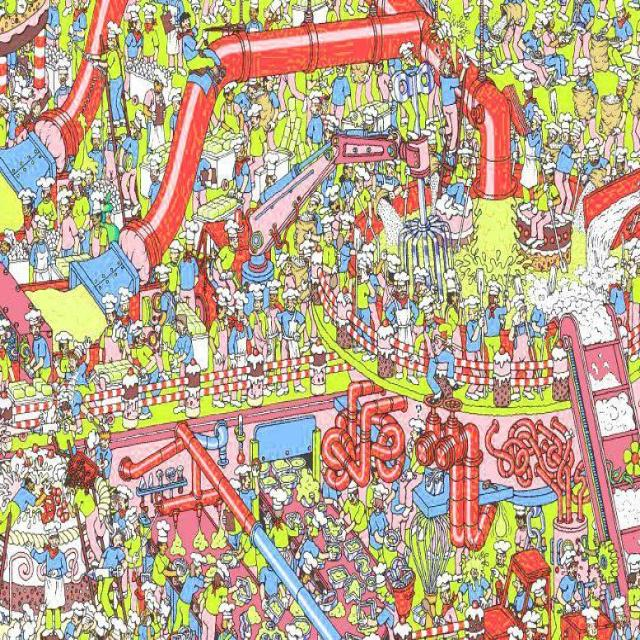waldo: (319, 93, 330, 112)
